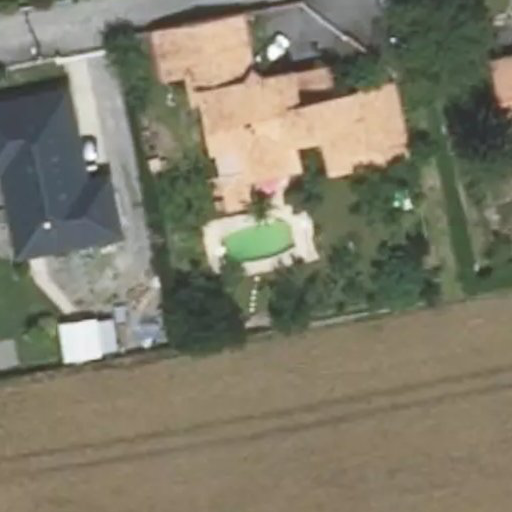pool: (215, 228, 295, 254)
